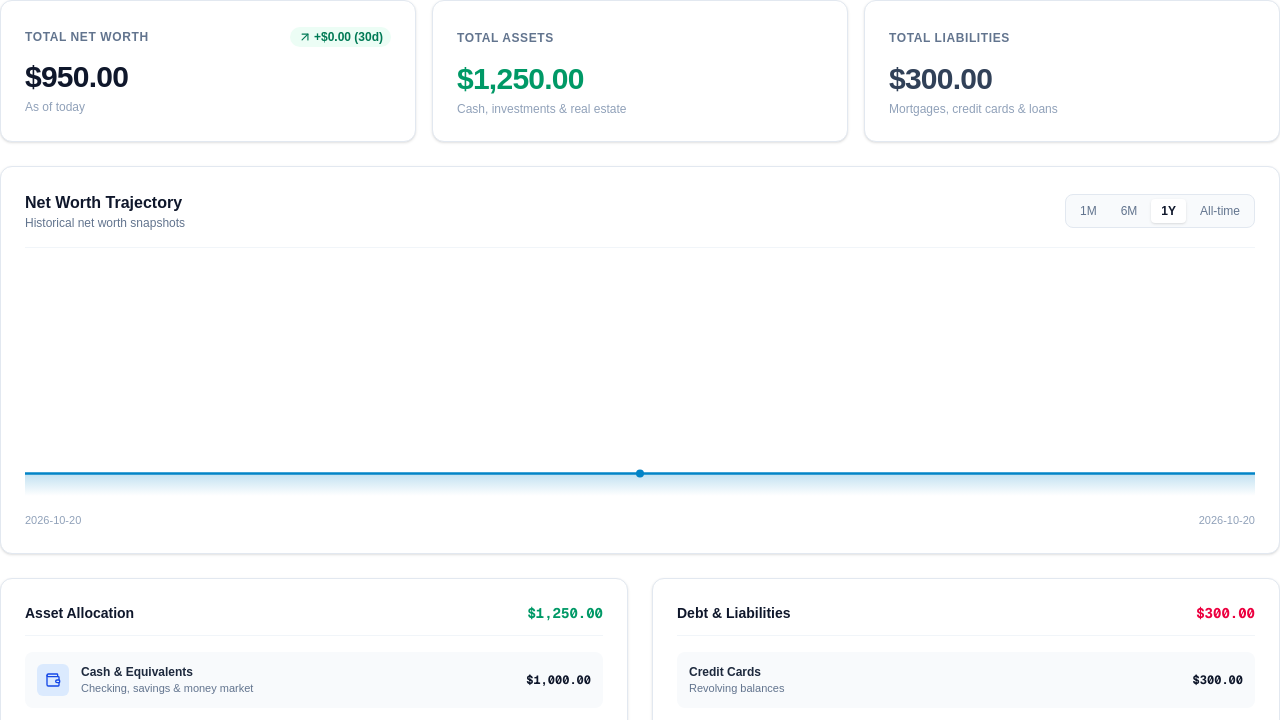
Test case: PersonalWealthDashboard › lists a row's accounts, each linked to its ledger
Click the text "Cash & Equivalents": [137, 672] box [81,664,193,678]
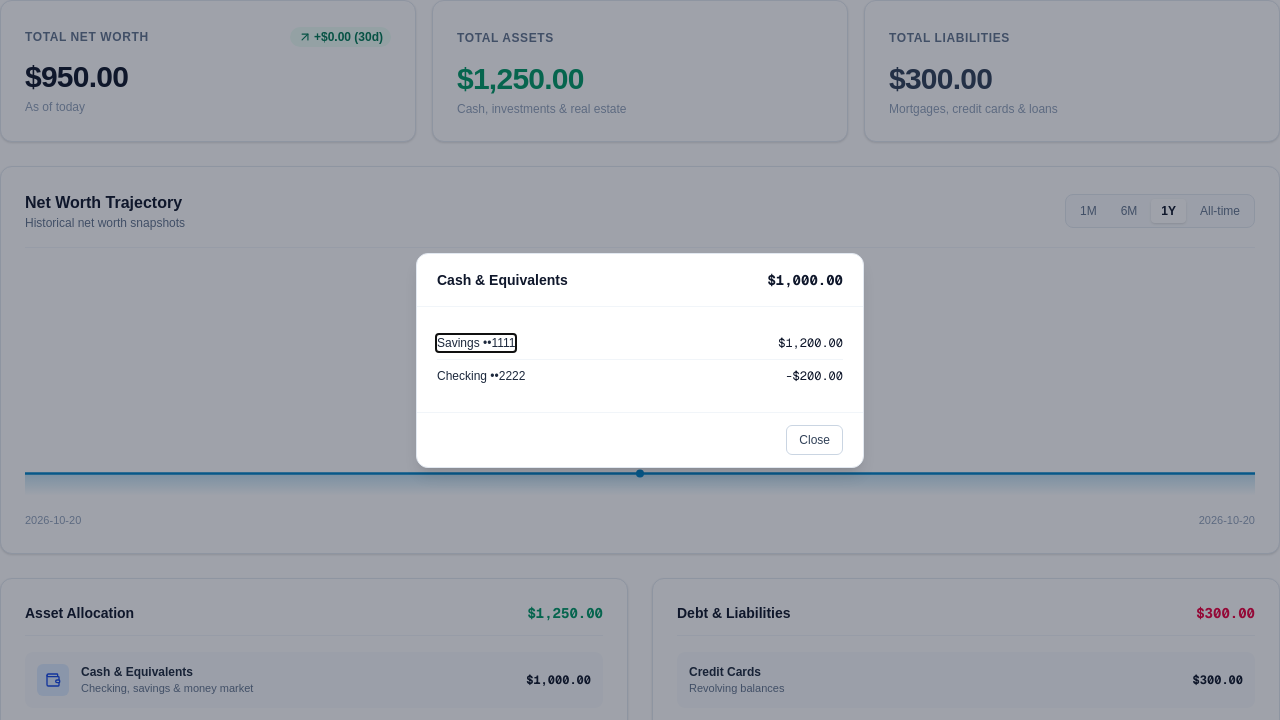
Expected: the heading "Cash & Equivalents" is shown, [437,270,568,290]
Expected: the text "-$200.00" is shown, [785,368,843,384]
